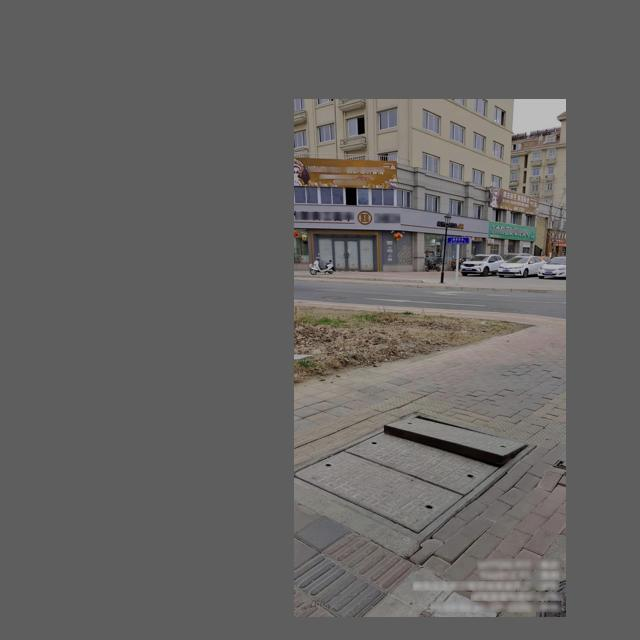uncovered: (294, 412, 538, 539)
